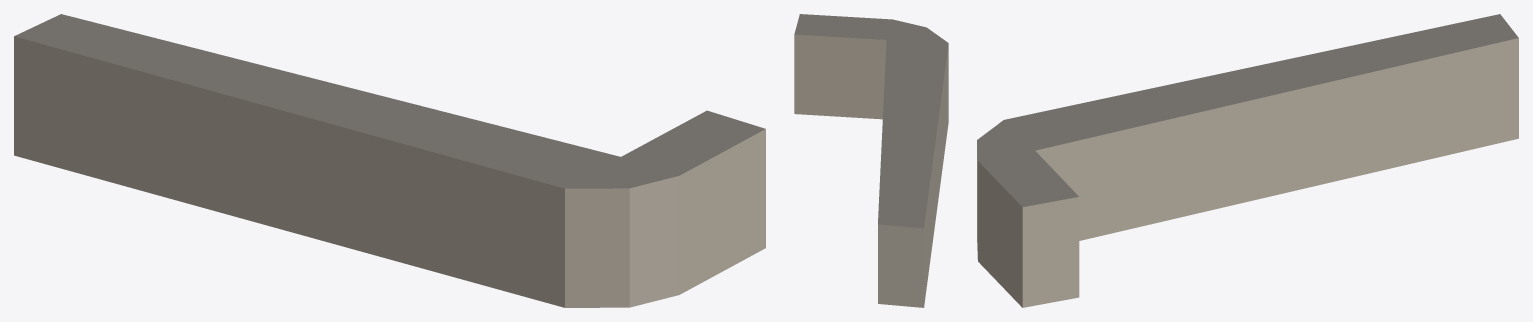
3 renders of one model, left to right at view 1: azimuth 30°, elevation 25°; view 2: azimuth 150°, elevation 25°; view 3: azimuth 270°, elevation 25°, orthographic. The views are drawn at different scales.
Visible parts, largest first — view 1: HP-w756797969; view 2: HP-w756797969; view 3: HP-w756797969.
Boxes of the visible parts, <box> form: HP-w756797969: <box>14,14,765,307</box>; HP-w756797969: <box>794,14,948,307</box>; HP-w756797969: <box>977,14,1518,307</box>.
Bounding box in the file's own units: 49.39 × 12 × 58.51.
